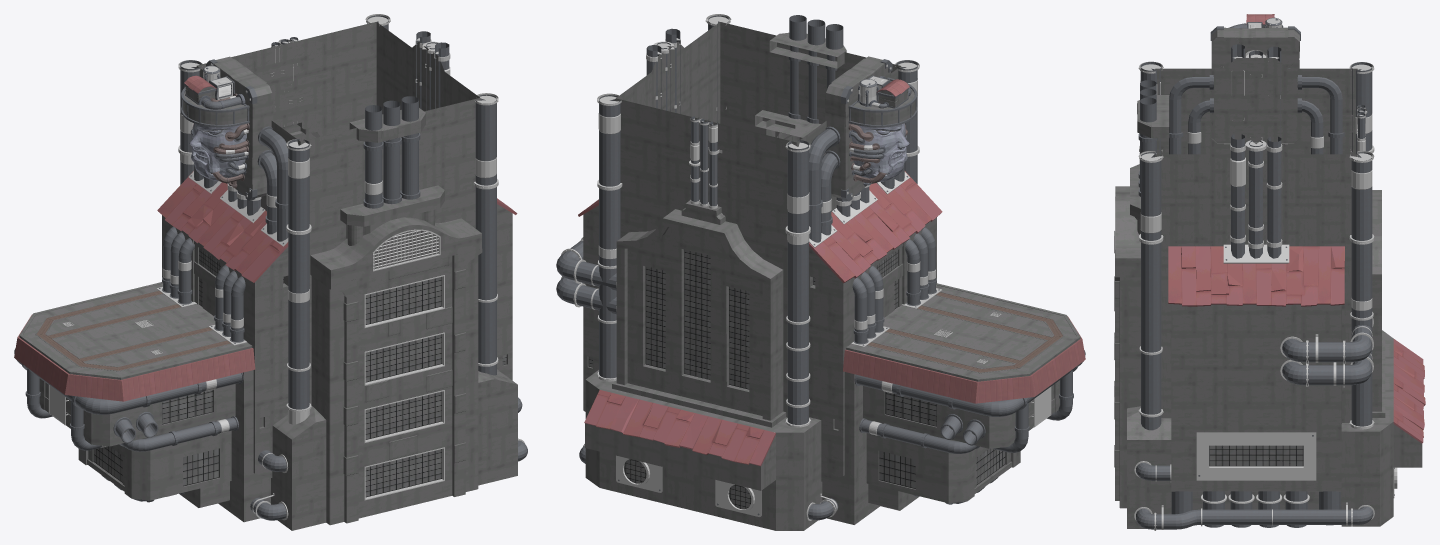
Rendered from MainTower_Bc.fbx.
3 renders of one model, left to right at view 1: azimuth 30°, elevation 25°; view 2: azimuth 150°, elevation 25°; view 3: azimuth 270°, elevation 25°, orthographic. The views are drawn at different scales.
Visible parts, largest first — view 1: SM_ENV_AMVLLG02_AreaB_MainTower_Bc.mo; view 2: SM_ENV_AMVLLG02_AreaB_MainTower_Bc.mo; view 3: SM_ENV_AMVLLG02_AreaB_MainTower_Bc.mo.
Boxes of the visible parts, bbox=[...] form: SM_ENV_AMVLLG02_AreaB_MainTower_Bc.mo: bbox=[14, 14, 527, 530]; SM_ENV_AMVLLG02_AreaB_MainTower_Bc.mo: bbox=[556, 14, 1085, 530]; SM_ENV_AMVLLG02_AreaB_MainTower_Bc.mo: bbox=[1114, 14, 1425, 530].
Size of the model in its own units: 5173 by 4483 by 3177.
